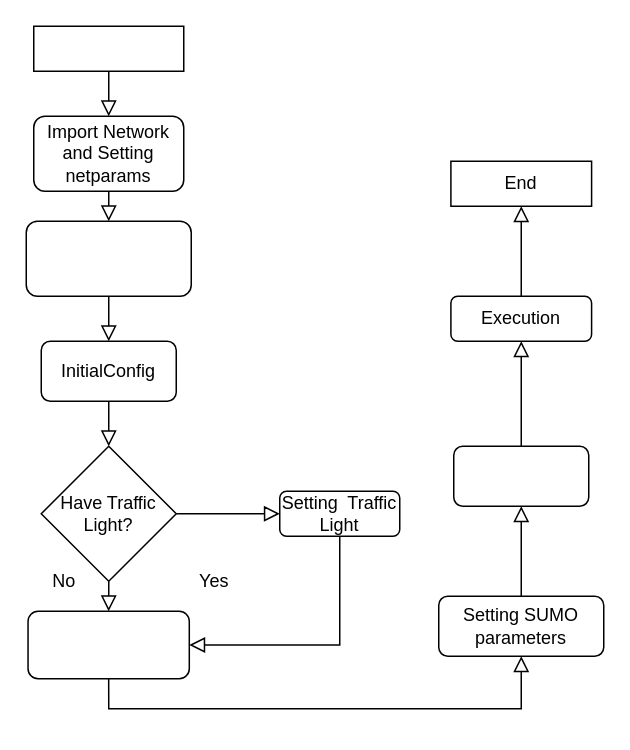
Some shapes in this 630 by 750 pixel diagram are drawn without their labels. The shapes that lost their labels are listed below. From the top down, each one's centre as x and y in pixels, then its label:
(108,48): Start simulation
(108,258): Setting VehicleParams and Conrtoller
(520,475): Setting Experment object
(108,644): Import Envirmount and Setting envparams
